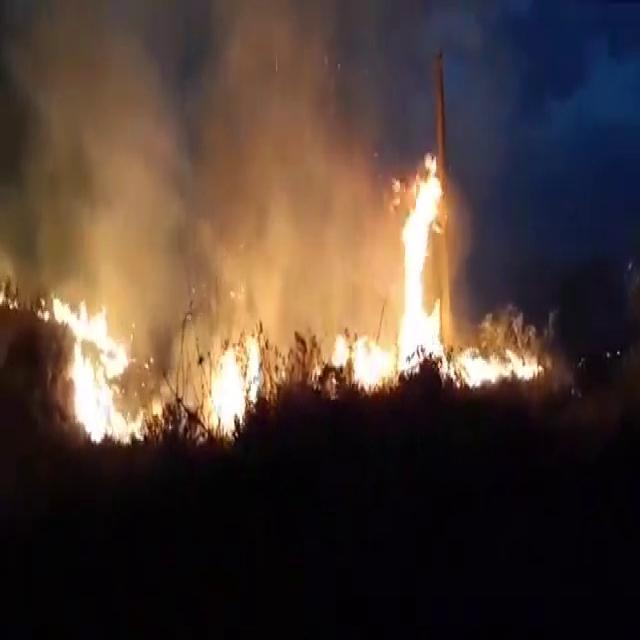Fire: (343, 151, 489, 397), (36, 290, 153, 438), (203, 330, 262, 438), (455, 340, 544, 390), (0, 272, 18, 310)
Smoke: (3, 11, 548, 343), (0, 11, 176, 281), (190, 20, 380, 264)
